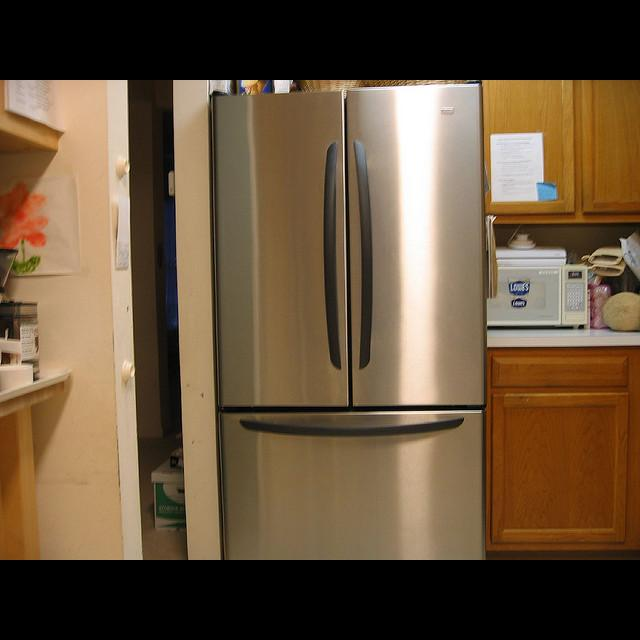Microwave: (486, 264, 588, 330)
Refrigerator: (212, 85, 485, 554)
